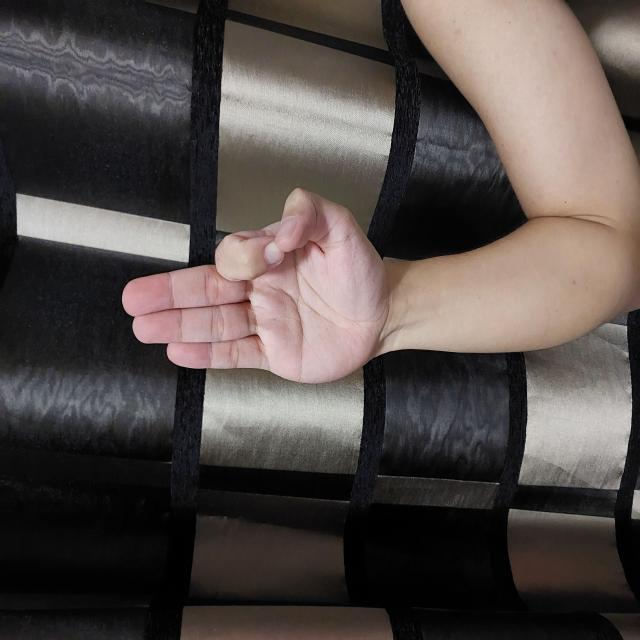F: (255, 121, 455, 393)
